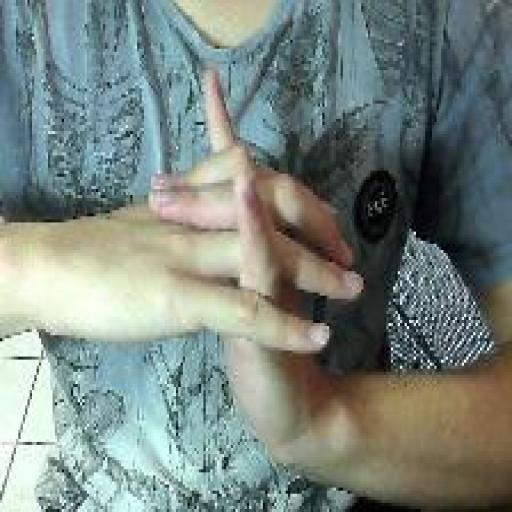Ushi -ox-: (146, 62, 366, 471)
